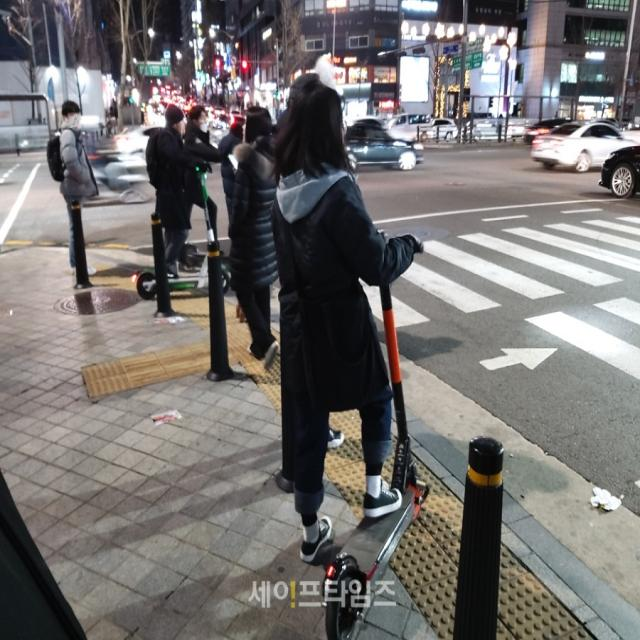non-helmet: (247, 52, 462, 640)
